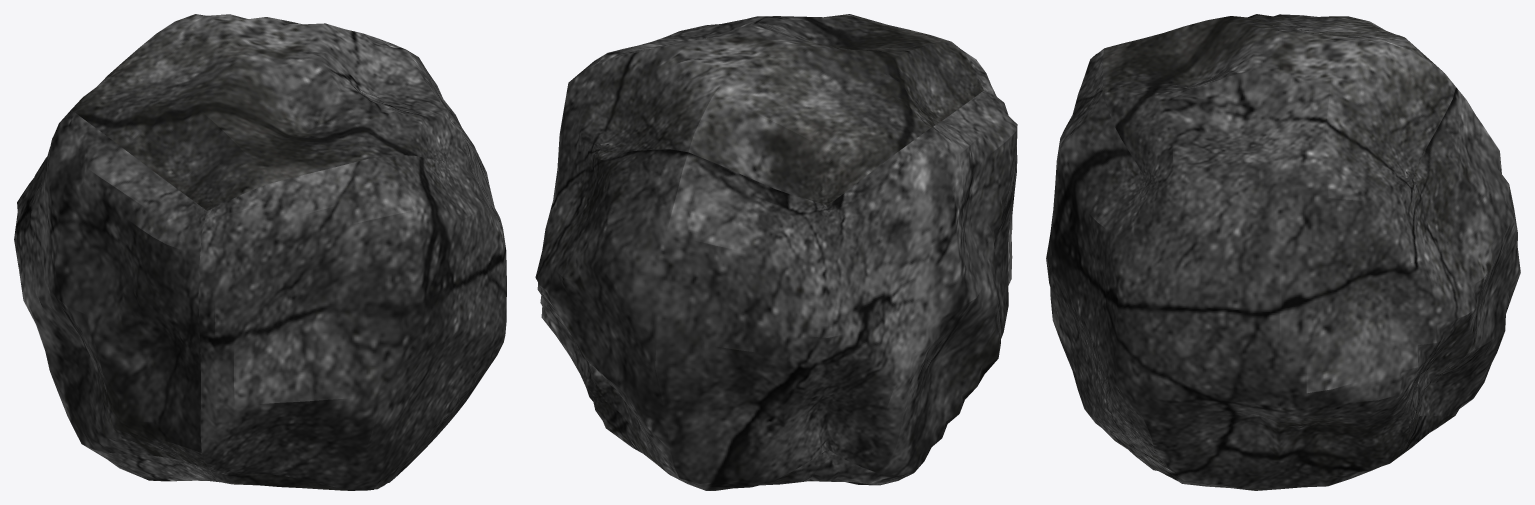
The model's file is Piedra3.fbx.
3 views of the same model, side by side, from view 1: azimuth 30°, elevation 25°; view 2: azimuth 150°, elevation 25°; view 3: azimuth 270°, elevation 25° (orthographic). The views are drawn at different scales.
Visible parts, largest first — view 1: Cube; view 2: Cube; view 3: Cube.
Boxes of the visible parts, box(x1,y1,x2,y2) form: Cube: box(14, 14, 506, 490); Cube: box(535, 14, 1017, 490); Cube: box(1046, 14, 1520, 490).
Bounding box in the file's own units: 67.93 × 65.77 × 69.89.
1 material, 1 textured.
